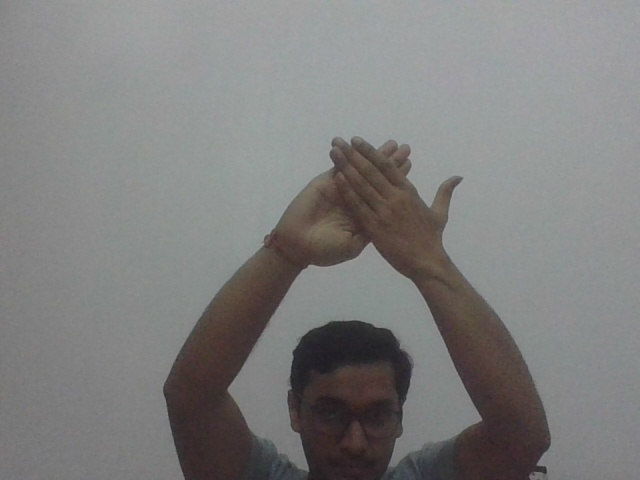H: (278, 134, 465, 269)
